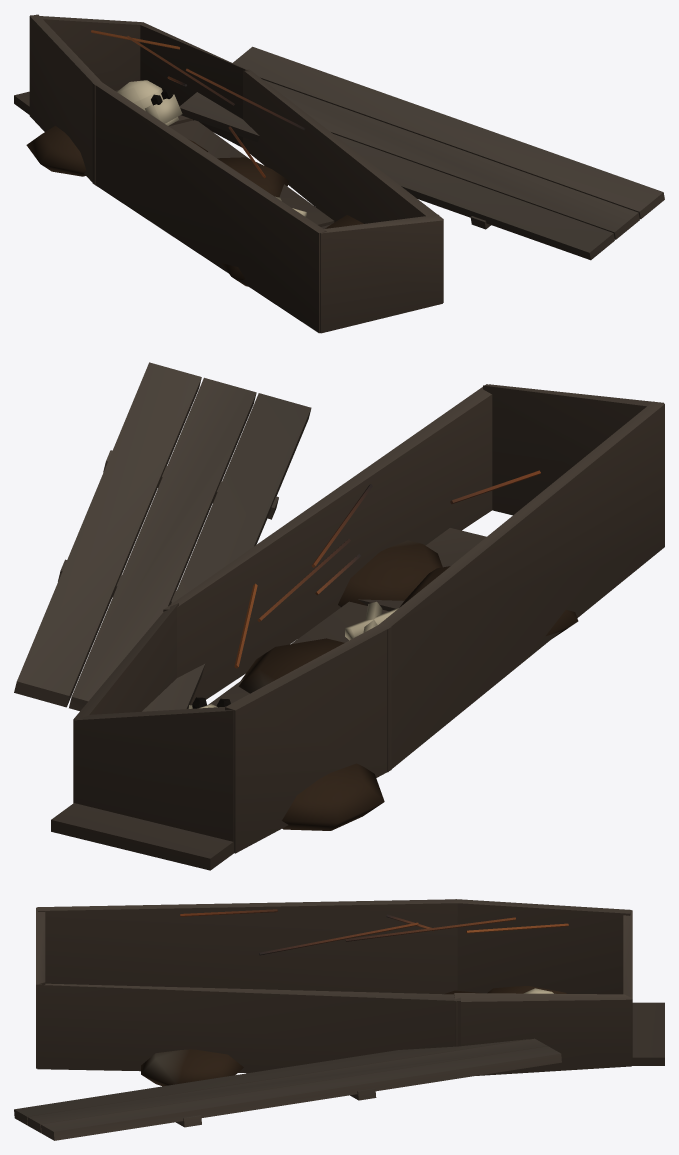
File: coffin-broken.glb
The picture shows the model from 3 angles, top to bottom: view 1: azimuth 30°, elevation 25°; view 2: azimuth 150°, elevation 25°; view 3: azimuth 270°, elevation 25°; orthographic projection. The views are drawn at different scales.
Parts seen in each view (by area): view 1: coffin-broken-wood, coffin-broken-earth, coffin-broken-bone, coffin-broken-iron; view 2: coffin-broken-wood, coffin-broken-earth, coffin-broken-iron, coffin-broken-bone; view 3: coffin-broken-wood, coffin-broken-earth, coffin-broken-iron.
Part boxes in pixels (x1=…): coffin-broken-wood: x1=14, y1=14, x2=664, y2=333; coffin-broken-earth: x1=26, y1=125, x2=363, y2=286; coffin-broken-bone: x1=117, y1=80, x2=306, y2=217; coffin-broken-iron: x1=91, y1=30, x2=305, y2=178; coffin-broken-wood: x1=14, y1=362, x2=664, y2=870; coffin-broken-earth: x1=238, y1=540, x2=578, y2=830; coffin-broken-iron: x1=234, y1=470, x2=540, y2=668; coffin-broken-bone: x1=188, y1=601, x2=399, y2=708; coffin-broken-wood: x1=14, y1=899, x2=664, y2=1140; coffin-broken-earth: x1=141, y1=986, x2=566, y2=1086; coffin-broken-iron: x1=180, y1=909, x2=568, y2=955.
Size of the model in its own units: 1.49 by 0.4616 by 2.11.
